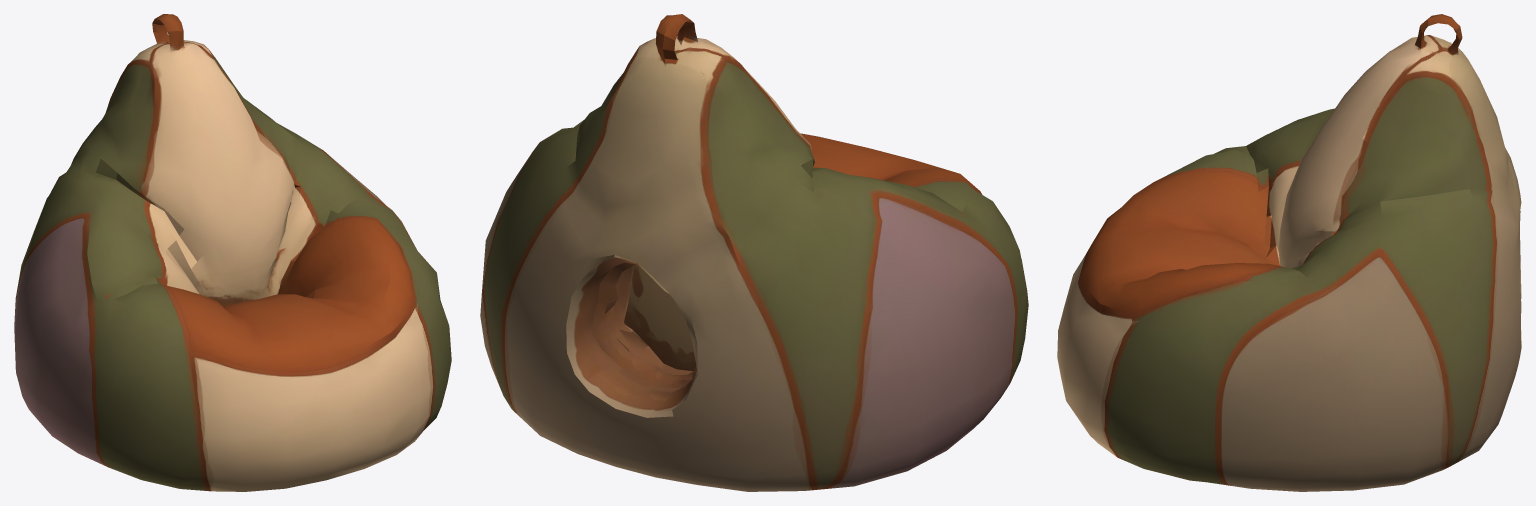
The model's file is Interior_BeanbagChair_01.glb.
3 views of the same model, side by side, from view 1: azimuth 30°, elevation 25°; view 2: azimuth 150°, elevation 25°; view 3: azimuth 270°, elevation 25° (orthographic). The views are drawn at different scales.
Visible parts, largest first — view 1: Interior_BeanbagChair_01.001; view 2: Interior_BeanbagChair_01.001; view 3: Interior_BeanbagChair_01.001.
Boxes of the visible parts, left/top/right/bottom form: Interior_BeanbagChair_01.001: left=14, top=14, right=451, bottom=491; Interior_BeanbagChair_01.001: left=480, top=14, right=1028, bottom=491; Interior_BeanbagChair_01.001: left=1057, top=14, right=1521, bottom=491.
Bounding box in the file's own units: 1 × 0.919 × 0.9814.
1 material, 1 textured.
